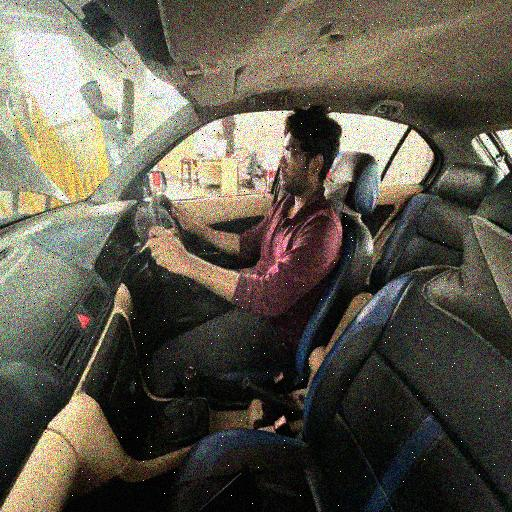Normal: (134, 106, 349, 421)
